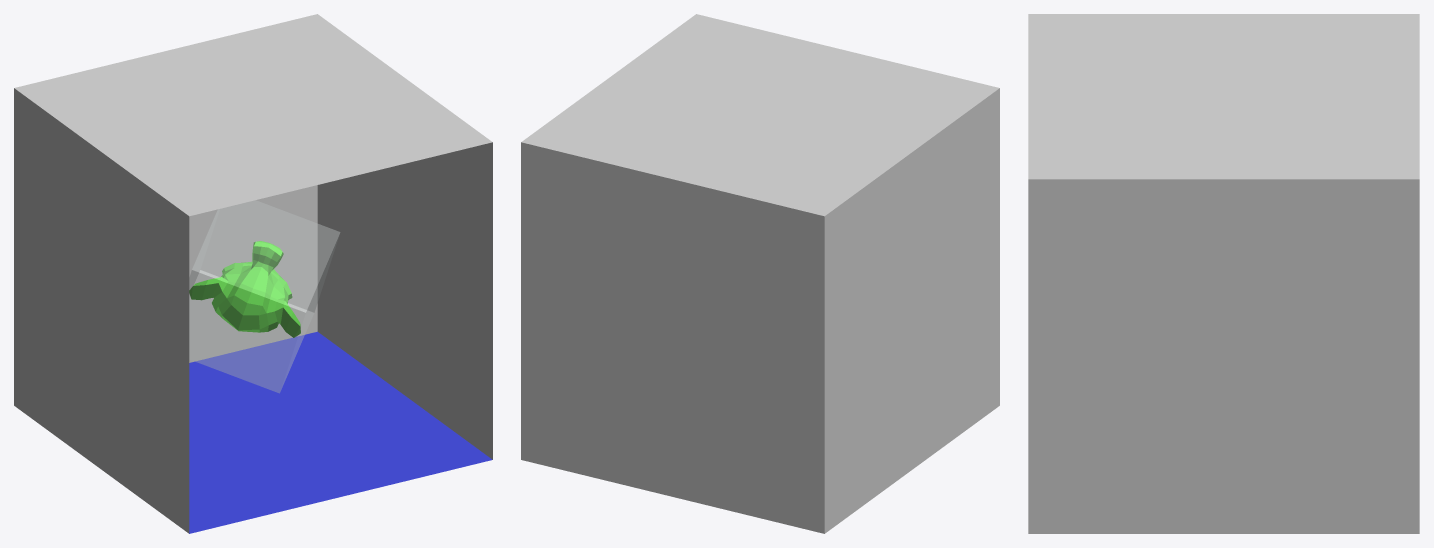
The model's file is Monkey-ice.glb.
3 renders of one model, left to right at view 1: azimuth 30°, elevation 25°; view 2: azimuth 150°, elevation 25°; view 3: azimuth 270°, elevation 25°, orthographic. The views are drawn at different scales.
Visible parts, largest first — view 1: Walls, Floor, Glass, Suzanne; view 2: Walls; view 3: Walls.
Part boxes in pixels (<box>): Walls: <box>14,14,492,533</box>; Floor: <box>189,331,492,533</box>; Glass: <box>189,200,339,393</box>; Suzanne: <box>189,241,300,337</box>; Walls: <box>521,14,999,533</box>; Walls: <box>1028,14,1419,533</box>.
Bounding box in the file's own units: 2 × 2 × 2.
